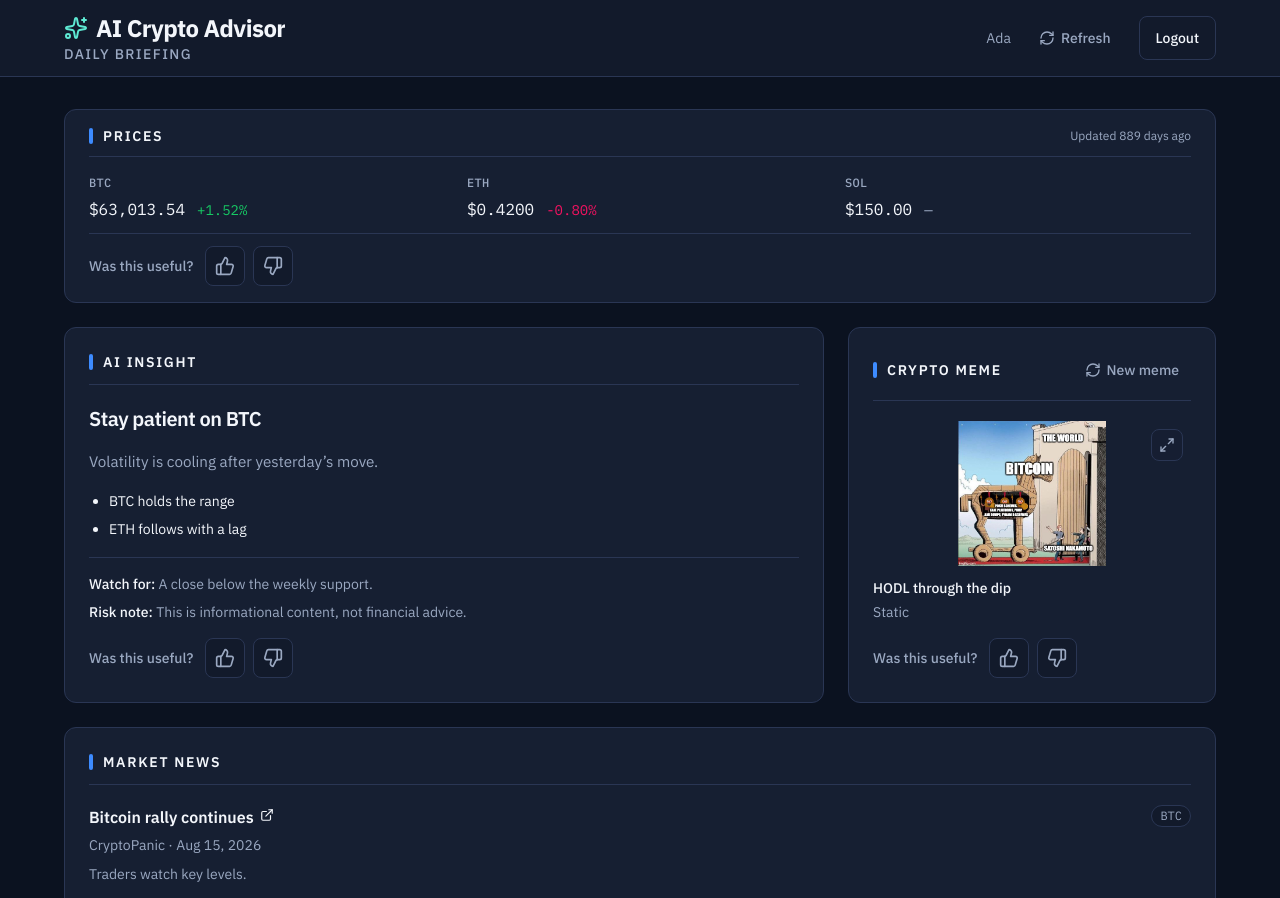
Test: voting › sends an up vote payload and then becomes read-only
The width and height of the screenshot is (1280, 898).
expect the text "BTC" in the row of "SOL" is shown: met, box [89,175,112,190]
Click the button named "Mark as useful" below "$63,013.54": (225, 266) [205,246,245,286]
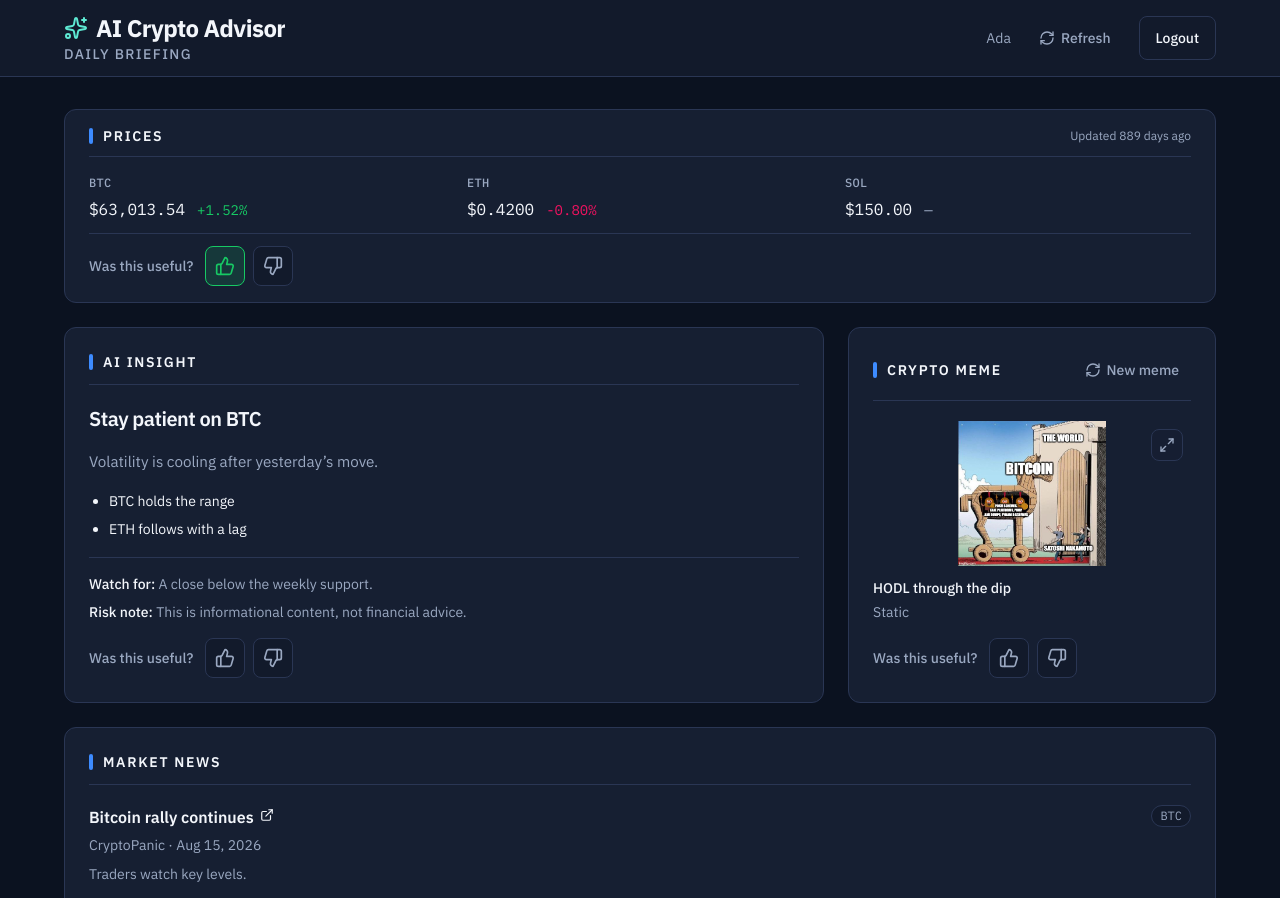
expect the button named "Mark as not useful" below "$63,013.54" is disabled: met, box [253,246,293,286]
expect the button named "Mark as useful" below "$63,013.54" is disabled: met, box [205,246,245,286]
